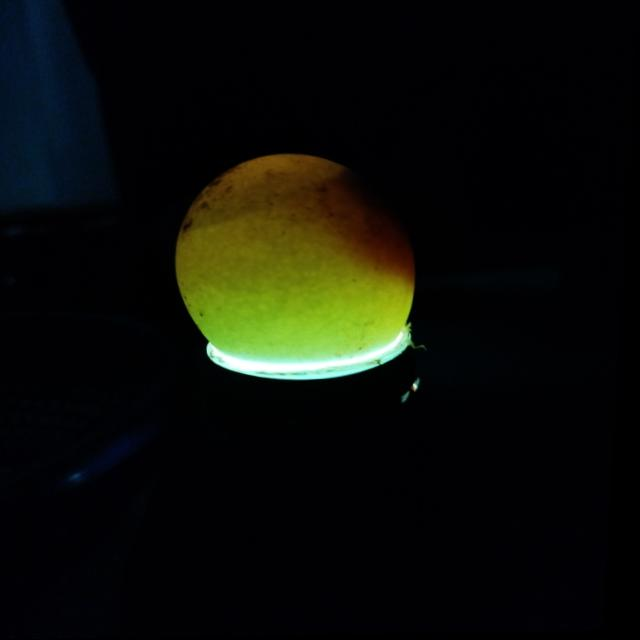Area Infectada: (323, 171, 421, 282)
